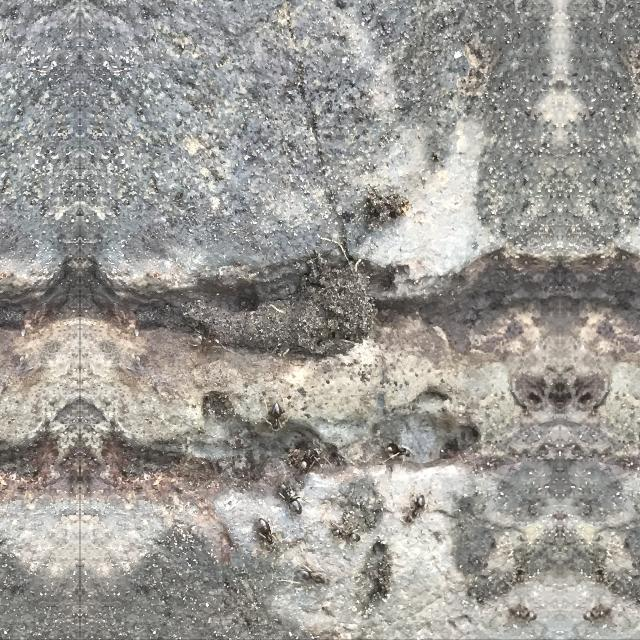Tapinoma: (399, 488, 431, 530), (294, 558, 332, 592), (188, 323, 228, 355), (276, 477, 306, 519), (252, 514, 278, 560), (294, 438, 324, 474), (262, 396, 288, 436), (328, 518, 362, 548), (506, 598, 540, 626), (580, 598, 614, 626), (382, 436, 414, 464)
